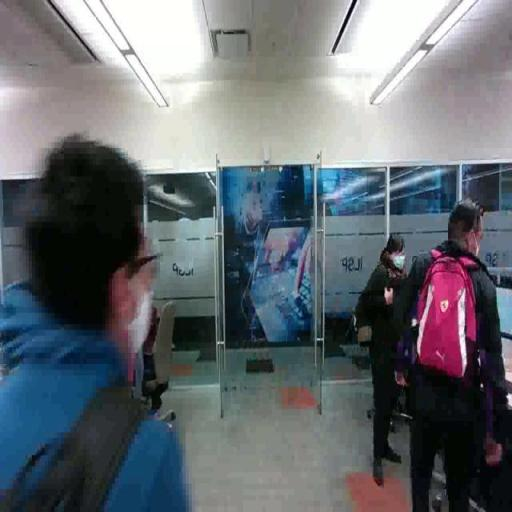person: (1, 131, 196, 512), (395, 194, 512, 512), (351, 224, 409, 485)
